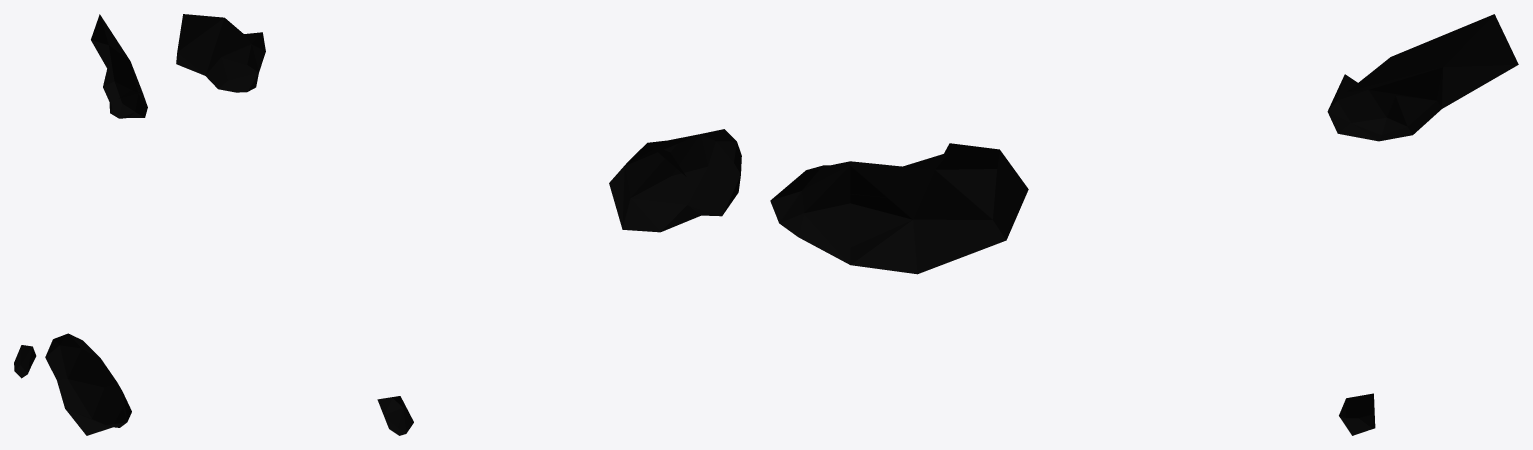
The picture shows the model from 3 angles, left to right: view 1: azimuth 30°, elevation 25°; view 2: azimuth 150°, elevation 25°; view 3: azimuth 270°, elevation 25°; orthographic projection. The views are drawn at different scales.
Size of the model in its own units: 1.51 by 2 by 2.6.
Materials: 1 (1 with a texture image).
